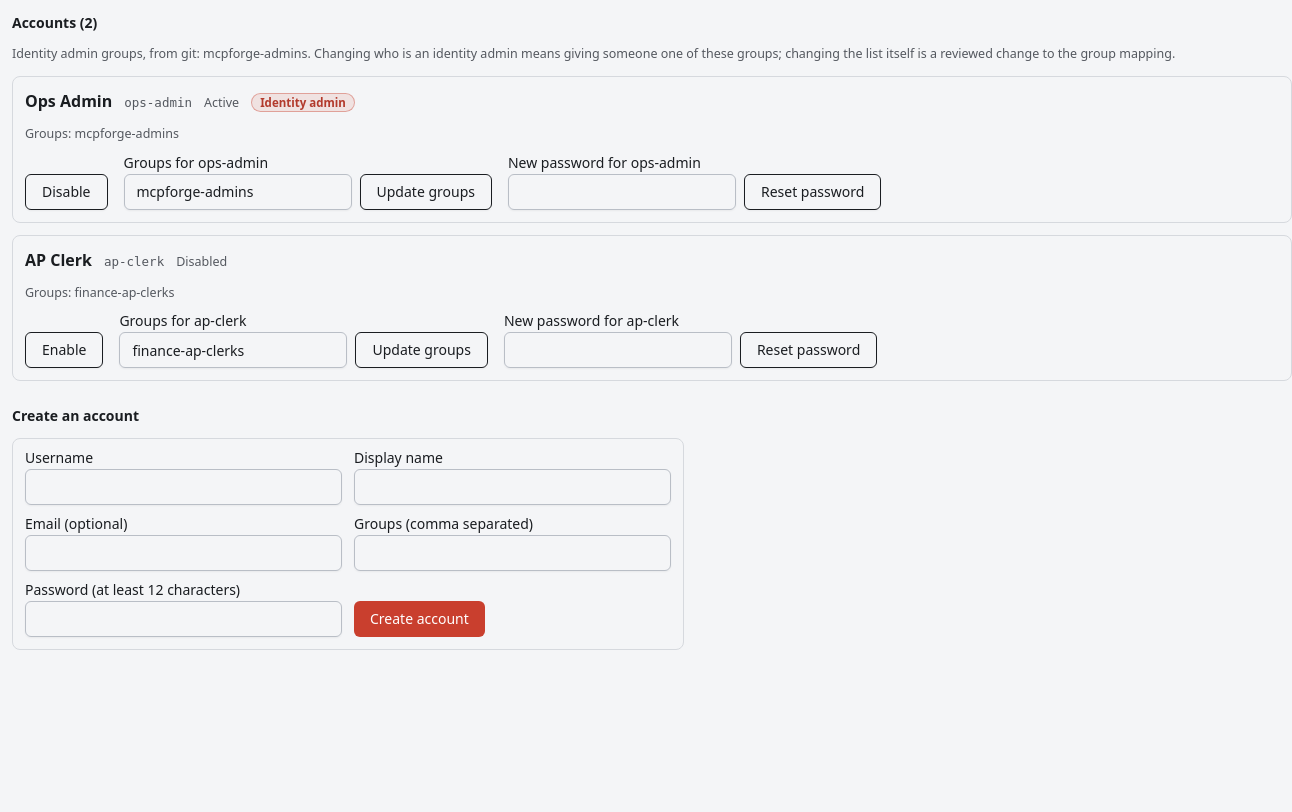
Test: UsersAdmin › sends a disable for the row it was pressed in and shows the next
Click the button "Disable". click: (66, 192)
box: [25,174,108,210]
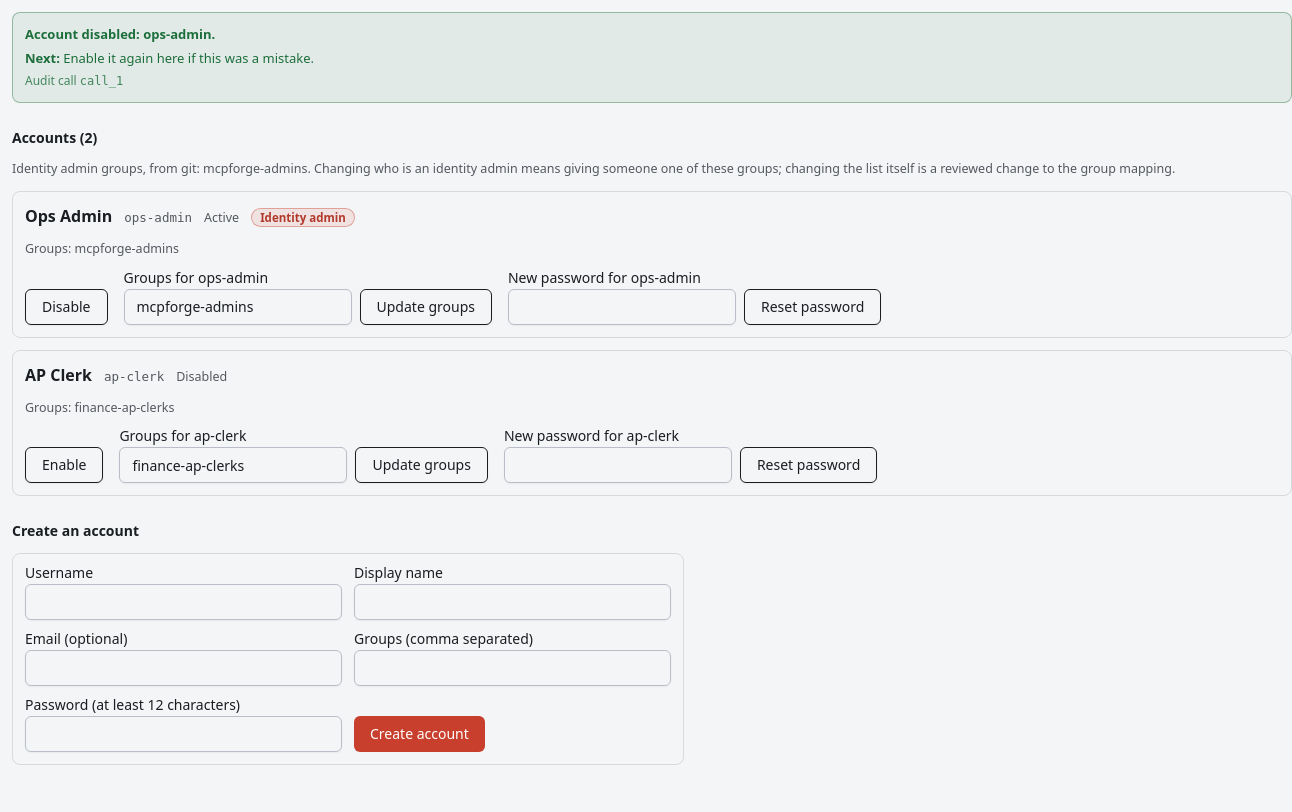
Now the message with test id "user-admin-done" is shown, box [12,12,1291,103]
Now the element with test id "user-admin-next" shows "Enable it again", box [63,48,314,66]
